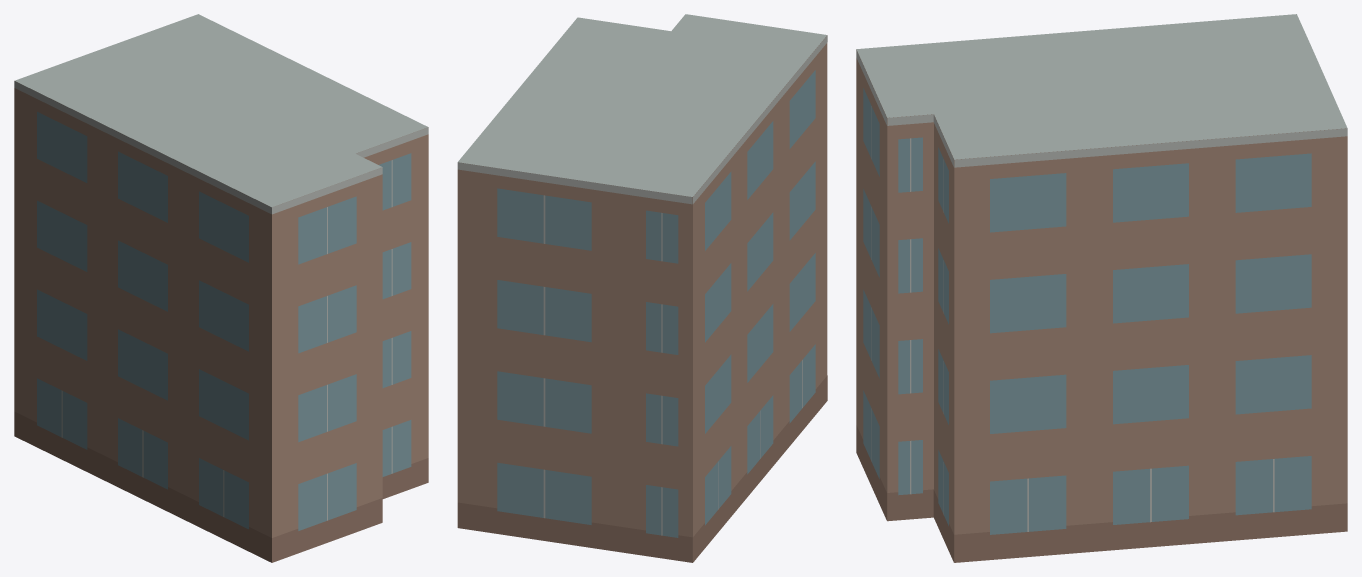
The model's file is residential-2d2b5a68-9eb8-4aa3-aa71-198844ec6dbe.glb.
The picture shows the model from 3 angles, left to right: view 1: azimuth 30°, elevation 25°; view 2: azimuth 150°, elevation 25°; view 3: azimuth 270°, elevation 25°; orthographic projection. The views are drawn at different scales.
Visible parts, largest first — view 1: residential-2d2b5a68-9eb8-4aa3-aa71-198844ec6dbe.tmp; view 2: residential-2d2b5a68-9eb8-4aa3-aa71-198844ec6dbe.tmp; view 3: residential-2d2b5a68-9eb8-4aa3-aa71-198844ec6dbe.tmp.
Part boxes in pixels (<box>): residential-2d2b5a68-9eb8-4aa3-aa71-198844ec6dbe.tmp: <box>14,14,428,562</box>; residential-2d2b5a68-9eb8-4aa3-aa71-198844ec6dbe.tmp: <box>457,14,827,562</box>; residential-2d2b5a68-9eb8-4aa3-aa71-198844ec6dbe.tmp: <box>856,14,1347,562</box>.
Bounding box in the file's own units: 9.46 × 12.2 × 13.48.
